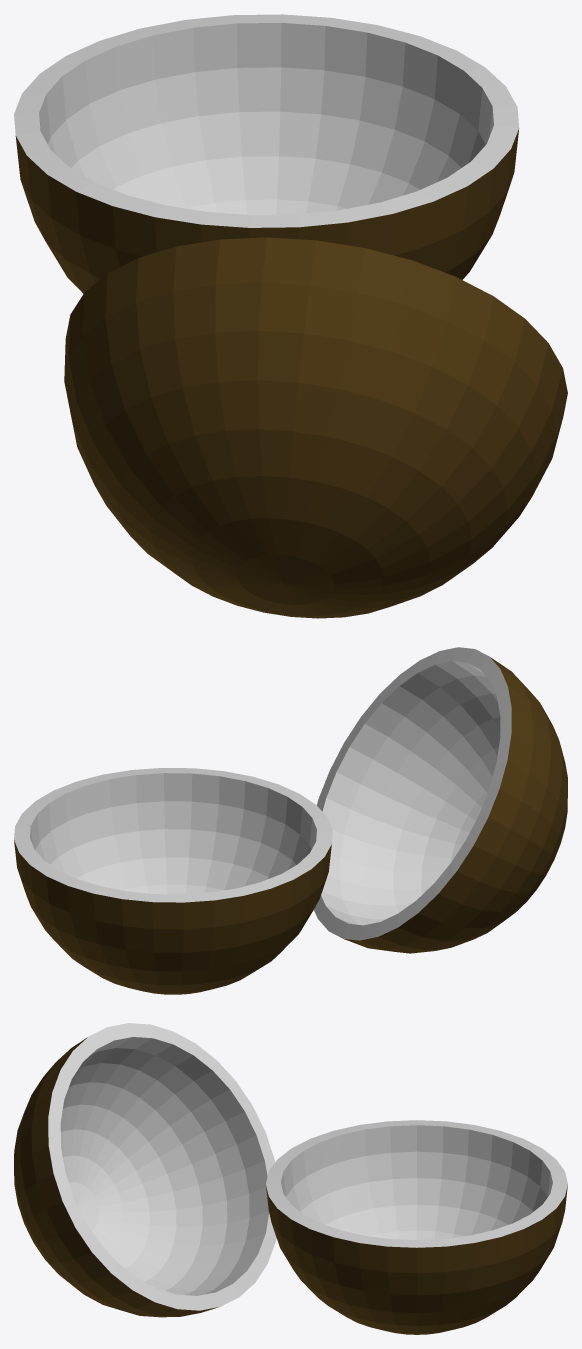
The model's file is coconut.fbx.
3 views of the same model, one above another, from view 1: azimuth 30°, elevation 25°; view 2: azimuth 150°, elevation 25°; view 3: azimuth 270°, elevation 25° (orthographic). The views are drawn at different scales.
Parts seen in each view (by area): view 1: Sphere.001; view 2: Sphere.001; view 3: Sphere.001.
Part boxes in pixels (bbox=[...]): Sphere.001: bbox=[14, 14, 567, 618]; Sphere.001: bbox=[14, 647, 567, 994]; Sphere.001: bbox=[14, 1023, 567, 1334].
Bounding box in the file's own units: 367 × 181 × 273.
